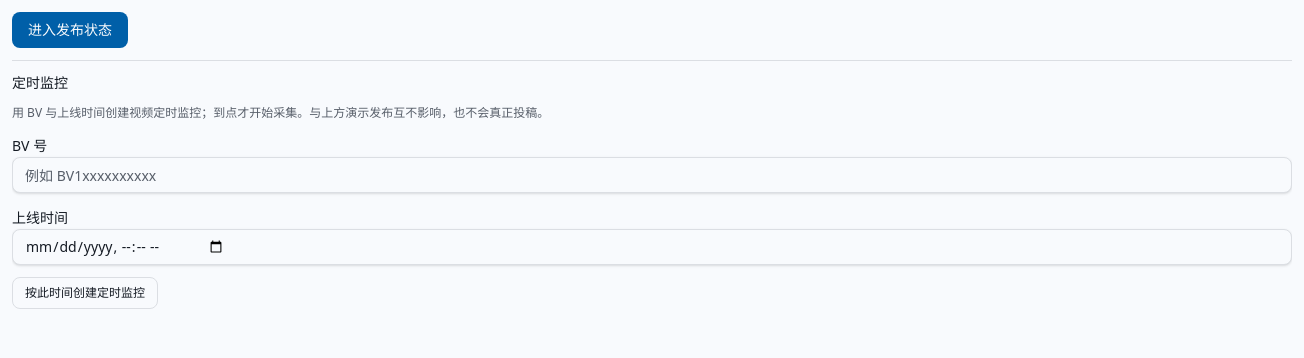
Test case: PublishPanel scheduled monitor › repeat submit returns existing target without implying a second create
Type "BV1xx411c7mD" into the field with test id "publish-monitor-bvid" at (652, 175), box [12, 157, 1292, 193]
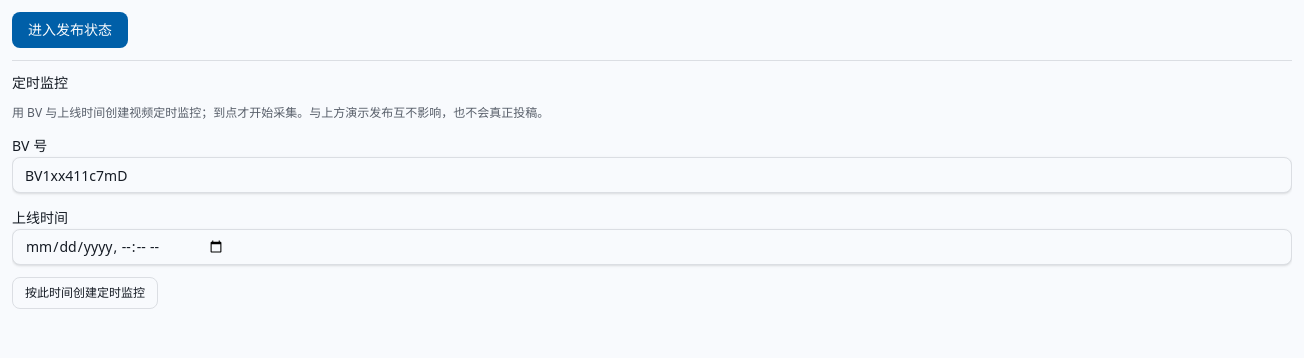
Type "2026-11-01T09:30" into the field with test id "publish-monitor-start-at" at (652, 247), box [12, 229, 1292, 265]
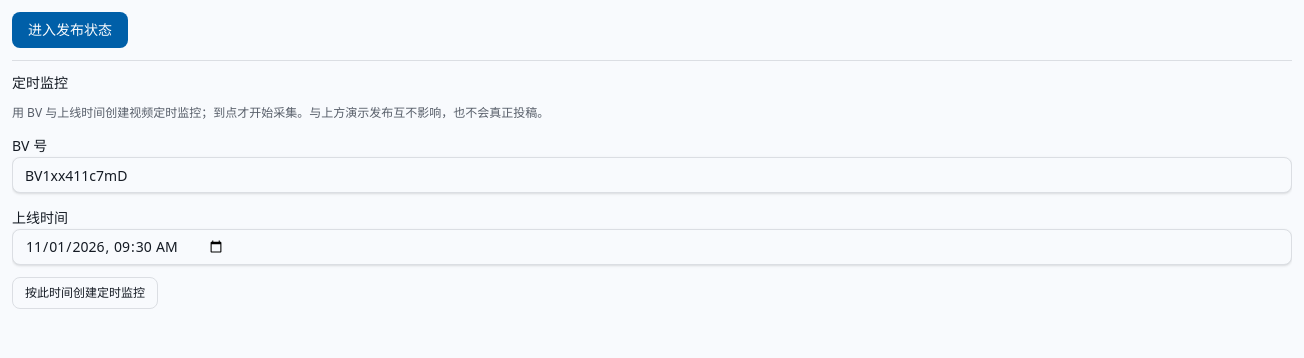
Click the button "按此时间创建定时监控" at (85, 293), box [12, 277, 158, 309]
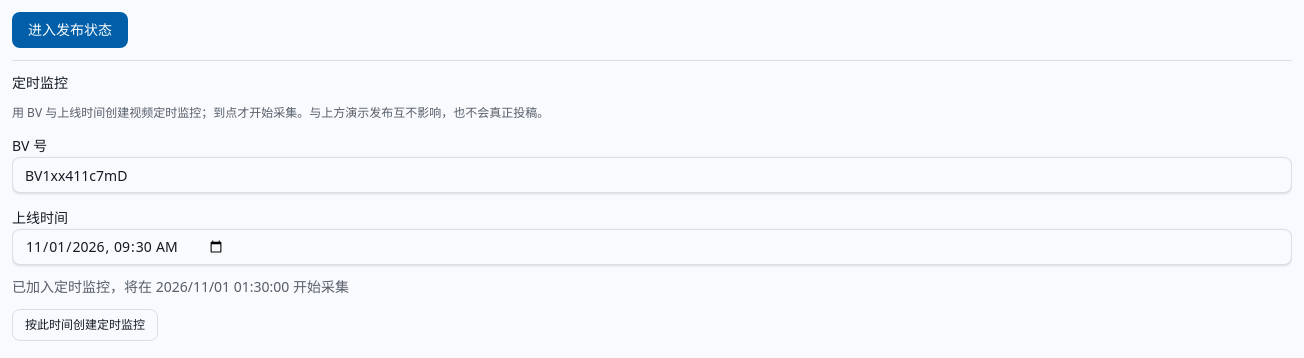
Expected: the message "已加入定时监控，将在 2026/11/01 01:30:00 开始采集" is shown, [12, 277, 349, 296]
Click the button "按此时间创建定时监控" at (85, 325), box [12, 309, 158, 341]
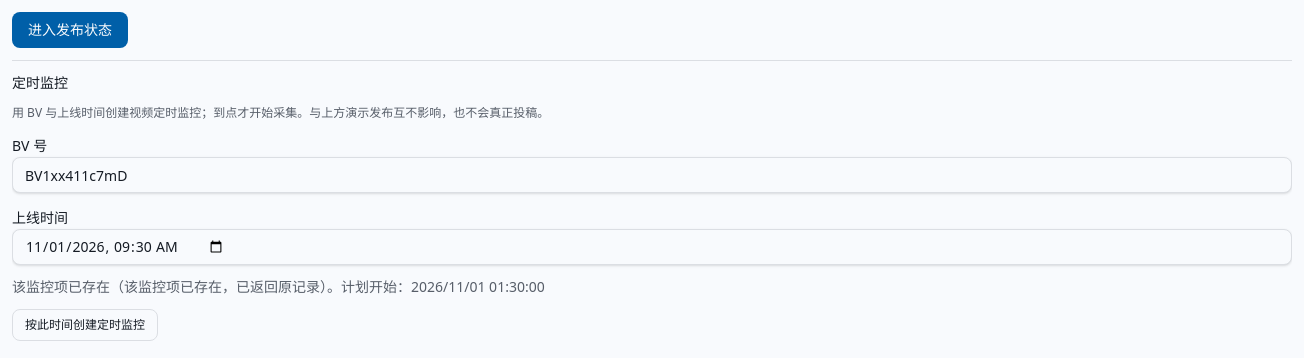
Expected: the message with test id "publish-monitor-status" shows "已存在", [12, 277, 545, 296]
